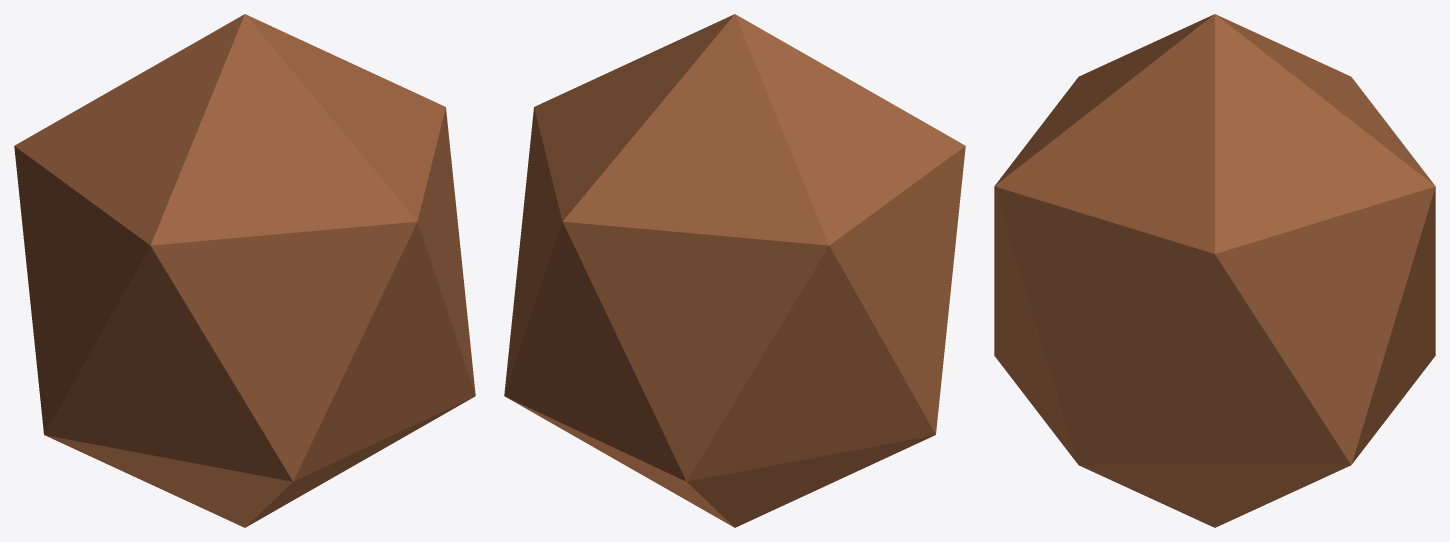
File: ore-iron-lod1.ece79193cdc0.glb
3 views of the same model, side by side, from view 1: azimuth 30°, elevation 25°; view 2: azimuth 150°, elevation 25°; view 3: azimuth 270°, elevation 25° (orthographic).
Visible parts, largest first — view 1: body; view 2: body; view 3: body.
Boxes of the visible parts, bbox=[...] form: body: bbox=[14, 14, 475, 527]; body: bbox=[504, 14, 965, 527]; body: bbox=[994, 14, 1435, 527].
Size of the model in its own units: 0.3846 by 0.47 by 0.3658.
